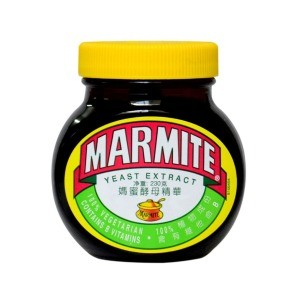yeast spread_brain food: (56, 103, 249, 248)
